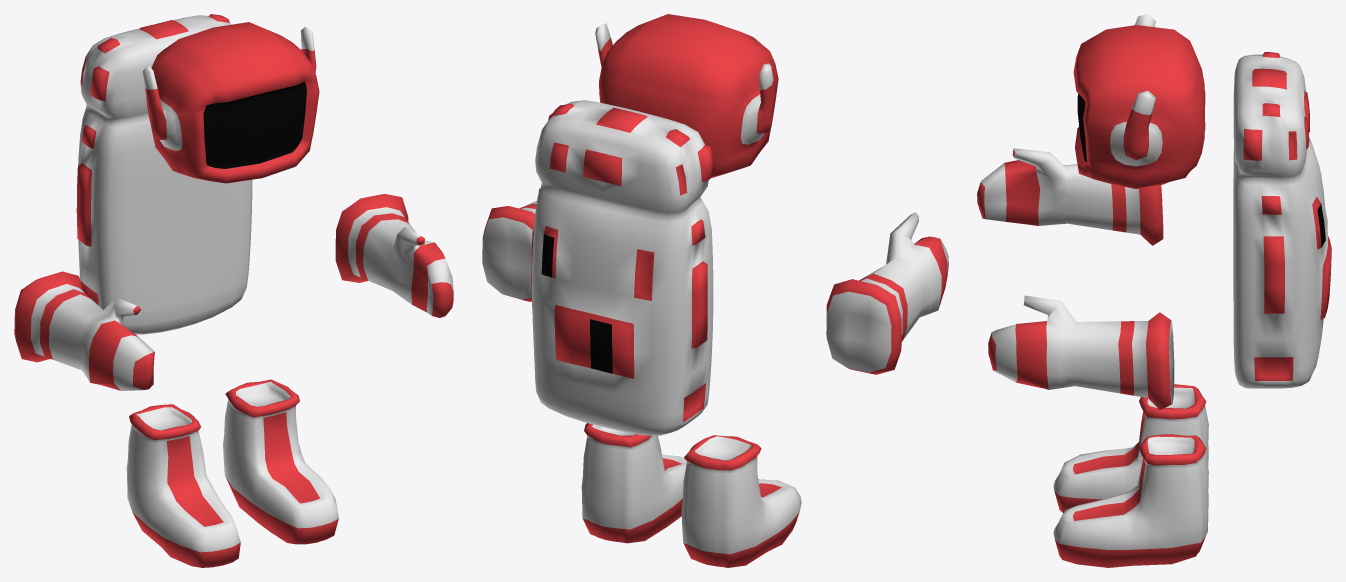
The model's file is astronaut.fbx.
The picture shows the model from 3 angles, left to right: view 1: azimuth 30°, elevation 25°; view 2: azimuth 150°, elevation 25°; view 3: azimuth 270°, elevation 25°; orthographic projection. The views are drawn at different scales.
Parts seen in each view (by area): view 1: Backpack, Head, LeftShoe, RightShoe, RightHand, LeftHand; view 2: Backpack, Head, RightShoe, RightHand, LeftShoe, LeftHand; view 3: Backpack, Head, LeftShoe, LeftHand, RightHand, RightShoe.
Boxes of the visible parts, <box> form: Backpack: <box>76,14,252,334</box>; Head: <box>142,22,319,183</box>; LeftShoe: <box>223,379,338,544</box>; RightShoe: <box>126,404,240,567</box>; RightHand: <box>14,271,154,390</box>; LeftHand: <box>335,193,453,317</box>; Backpack: <box>531,100,714,435</box>; Head: <box>595,14,778,177</box>; RightShoe: <box>681,435,801,567</box>; RightHand: <box>826,212,948,374</box>; LeftShoe: <box>581,423,686,543</box>; LeftHand: <box>482,201,536,301</box>; Backpack: <box>1233,52,1331,388</box>; Head: <box>1073,14,1205,188</box>; LeftShoe: <box>1053,434,1208,567</box>; LeftHand: <box>988,295,1174,409</box>; RightHand: <box>977,148,1163,245</box>; RightShoe: <box>1053,384,1208,513</box>.
Bounding box in the file's own units: 266 × 315 × 205.
